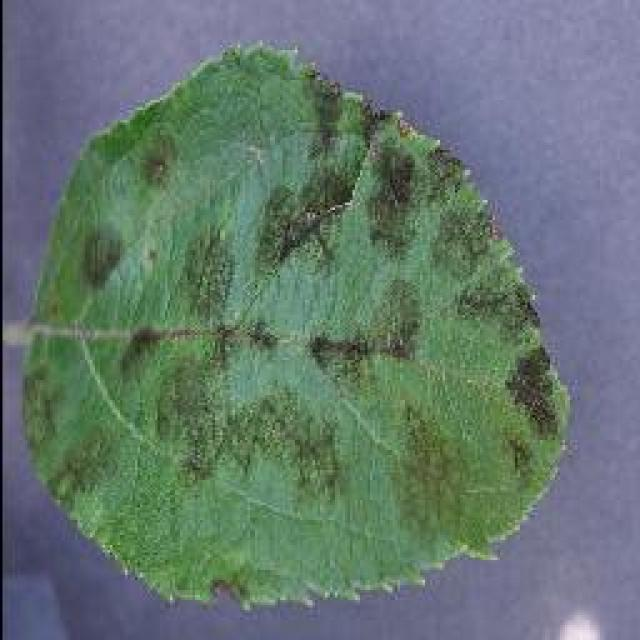apple scab disease: (17, 38, 575, 610)
